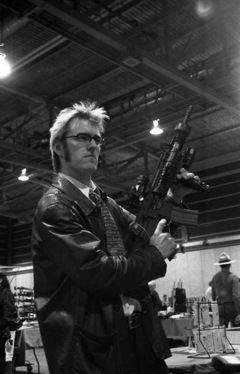rifle: (135, 101, 204, 230)
rifle in hand: (97, 85, 213, 294)
